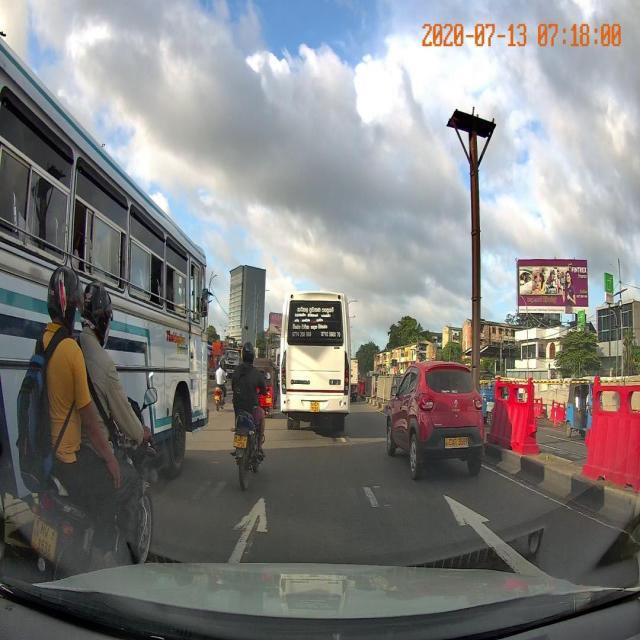Liniya 1: (481, 463, 572, 511), (362, 486, 380, 508), (338, 432, 347, 444)
Strelka vpered: (438, 489, 563, 584), (220, 490, 270, 566)
